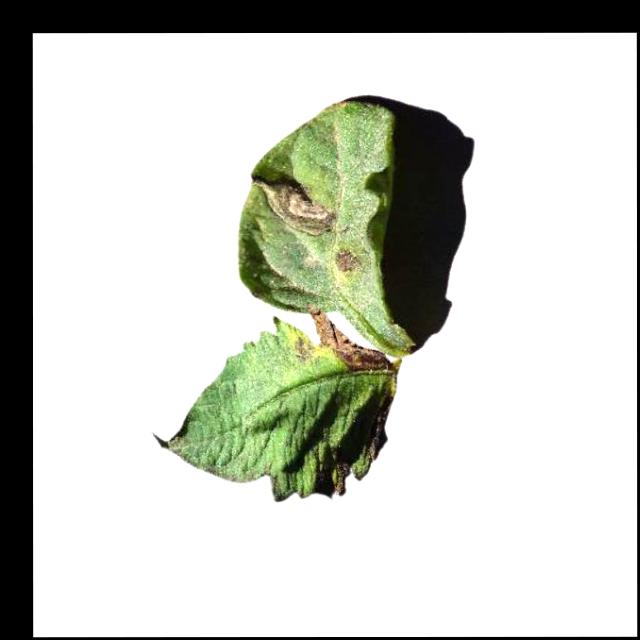Early_blight: (308, 300, 389, 374), (263, 178, 338, 235), (334, 247, 363, 274), (332, 460, 348, 497)
